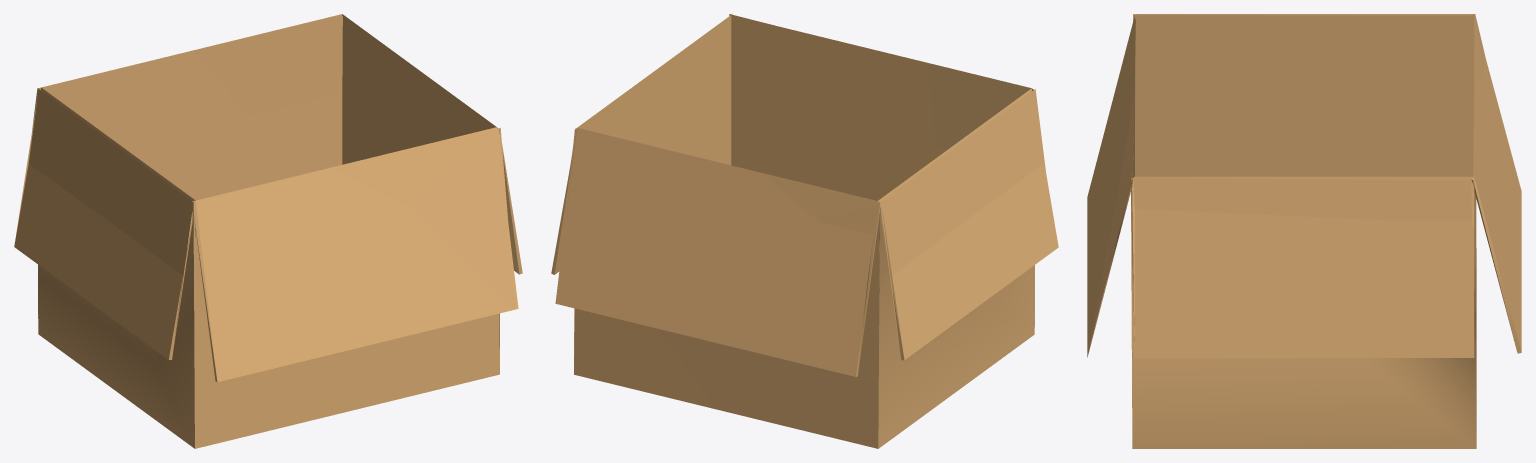
File: cardboard-box_02.fbx
3 renders of one model, left to right at view 1: azimuth 30°, elevation 25°; view 2: azimuth 150°, elevation 25°; view 3: azimuth 270°, elevation 25°, orthographic. The views are drawn at different scales.
Parts seen in each view (by area): view 1: cardboard-box_02; view 2: cardboard-box_02; view 3: cardboard-box_02.
Part boxes in pixels (x1=…): cardboard-box_02: x1=14, y1=14, x2=522, y2=448; cardboard-box_02: x1=551, y1=14, x2=1058, y2=448; cardboard-box_02: x1=1087, y1=14, x2=1521, y2=448.
Bounding box in the file's own units: 69.5 × 46.36 × 67.28.
Materials: 1 (1 with a texture image).
